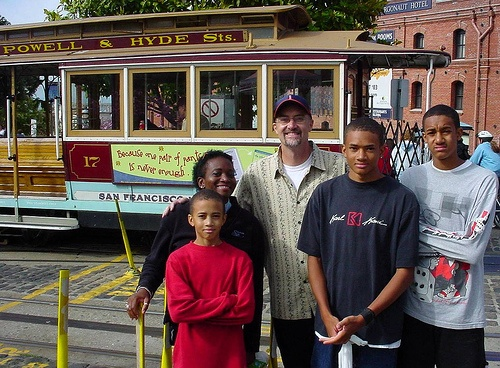head: (269, 92, 317, 154), (420, 104, 463, 164), (196, 144, 239, 201), (185, 189, 227, 247), (343, 118, 382, 180), (475, 127, 497, 147)
person: (299, 108, 417, 368), (240, 82, 346, 368), (128, 150, 267, 368), (392, 105, 497, 366), (165, 189, 256, 368), (467, 127, 498, 174)
